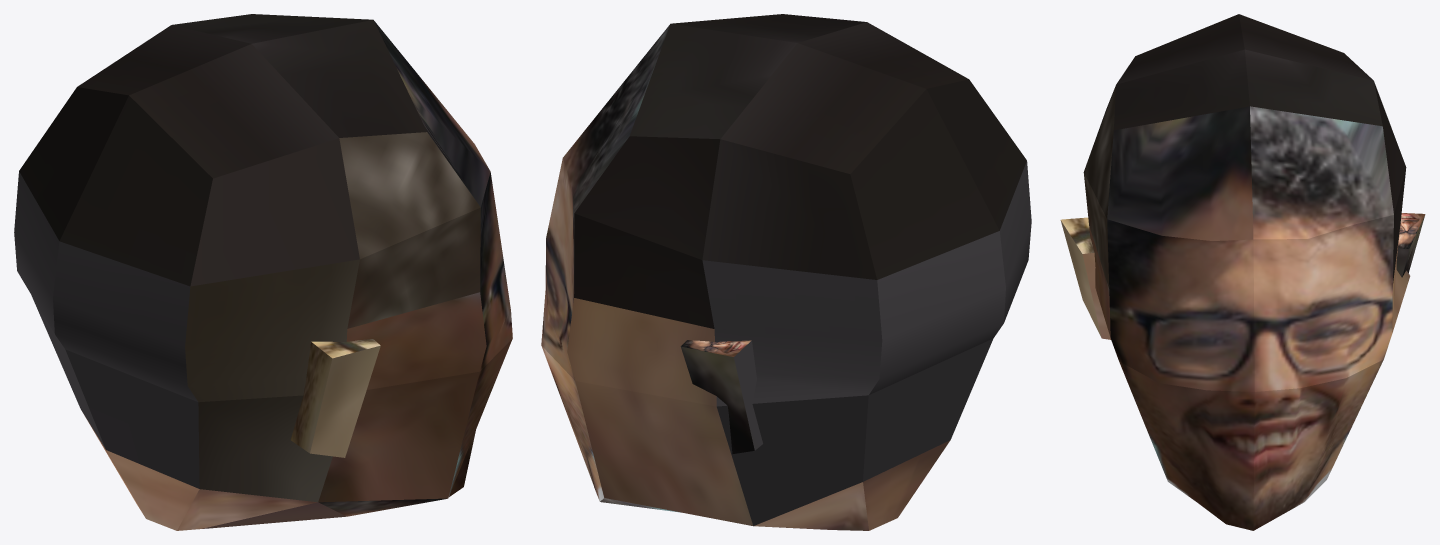
Rendered from finalcarry.fbx.
3 views of the same model, side by side, from view 1: azimuth 30°, elevation 25°; view 2: azimuth 150°, elevation 25°; view 3: azimuth 270°, elevation 25° (orthographic). The views are drawn at different scales.
Parts seen in each view (by area): view 1: Cylinder; view 2: Cylinder; view 3: Cylinder.
Part boxes in pixels (box(x1,y1,x2,y2)): Cylinder: box(14, 14, 512, 530); Cylinder: box(541, 14, 1031, 530); Cylinder: box(1060, 14, 1425, 530).
Bounding box in the file's own units: 91.45 × 97.89 × 80.57.
Materials: 1 (1 with a texture image).
